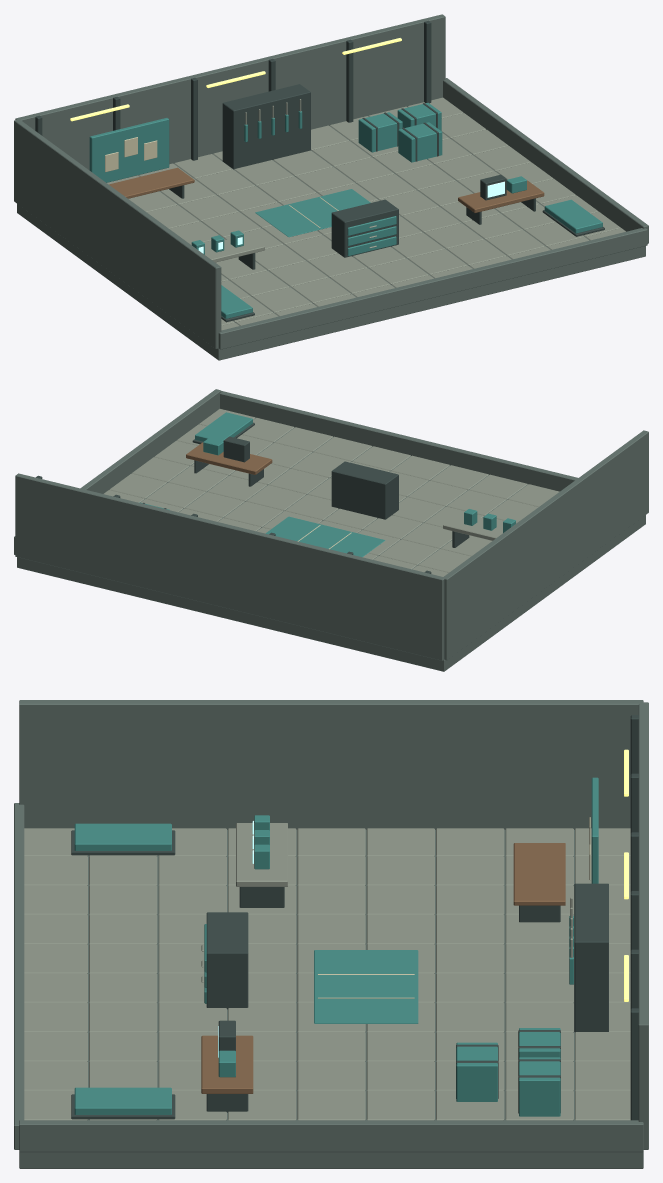
File: safehouse.glb
3 views of the same model, one above another, from view 1: azimuth 30°, elevation 25°; view 2: azimuth 150°, elevation 25°; view 3: azimuth 270°, elevation 25° (orthographic). The views are drawn at different scales.
Parts seen in each view (by area): view 1: SH / North wall, SH / West wall, SH / South cutaway, SH / Foundation, SH / Gun cabinet, SH / East cutaway, SH / Mission board, SH / Center rug, SH / Archive cabinet, SH / Mission desk, SH / Supply chest.002, SH / Supply chest (+56 smaller); view 2: SH / North wall, SH / West wall, SH / Foundation, SH / South cutaway, SH / Archive cabinet, SH / East cutaway, SH / Center rug, SH / Radio desk, SH / Bunk mattress.001, SH / Floor tile.068, SH / Floor tile.043, SH / Floor tile.085 (+33 smaller); view 3: SH / West wall, SH / East cutaway, SH / Foundation, SH / Center rug, SH / Gun cabinet, SH / North wall, SH / Archive cabinet, SH / South cutaway, SH / Mission desk, SH / Bunk mattress.001, SH / Bunk mattress, SH / Laboratory bench (+90 smaller).
Boxes of the visible parts, <box> form: SH / North wall: <box>15,14,445,170</box>; SH / West wall: <box>14,119,221,348</box>; SH / South cutaway: <box>218,228,647,349</box>; SH / Foundation: <box>17,107,645,360</box>; SH / Gun cabinet: <box>222,84,310,169</box>; SH / East cutaway: <box>443,78,648,243</box>; SH / Mission board: <box>89,118,169,182</box>; SH / Center rug: <box>255,189,370,237</box>; SH / Archive cabinet: <box>331,199,398,257</box>; SH / Mission desk: <box>109,167,194,198</box>; SH / Supply chest.002: <box>398,122,442,162</box>; SH / Supply chest: <box>358,112,402,152</box>; SH / North wall: <box>15,473,444,660</box>; SH / West wall: <box>444,430,648,660</box>; SH / Foundation: <box>17,418,645,671</box>; SH / South cutaway: <box>220,391,577,491</box>; SH / Archive cabinet: <box>331,461,398,519</box>; SH / East cutaway: <box>14,389,221,554</box>; SH / Center rug: <box>265,516,385,557</box>; SH / Radio desk: <box>186,442,272,474</box>; SH / Bunk mattress.001: <box>195,412,252,441</box>; SH / Floor tile.068: <box>246,485,305,510</box>; SH / Floor tile.043: <box>408,480,467,506</box>; SH / Floor tile.085: <box>146,482,205,508</box>; SH / West wall: <box>19,700,643,829</box>; SH / East cutaway: <box>19,1120,643,1152</box>; SH / Foundation: <box>19,829,643,1168</box>; SH / Center rug: <box>314,950,418,1023</box>; SH / Gun cabinet: <box>574,883,608,1032</box>; SH / North wall: <box>638,702,648,1149</box>; SH / Archive cabinet: <box>206,912,248,1009</box>; SH / South cutaway: <box>14,803,24,1149</box>; SH / Mission desk: <box>513,843,565,905</box>; SH / Bunk mattress.001: <box>74,1087,171,1114</box>; SH / Bunk mattress: <box>74,823,171,850</box>; SH / Laboratory bench: <box>236,823,287,886</box>.
Bounding box in the file's own units: 22.3 × 4.6 × 18.3.
